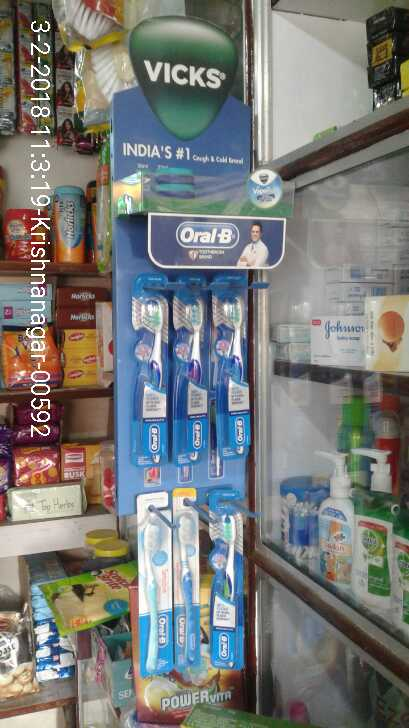oralb: (209, 288, 255, 446), (205, 513, 246, 672), (134, 514, 170, 673), (140, 271, 168, 465), (165, 505, 197, 671), (179, 304, 204, 462)
